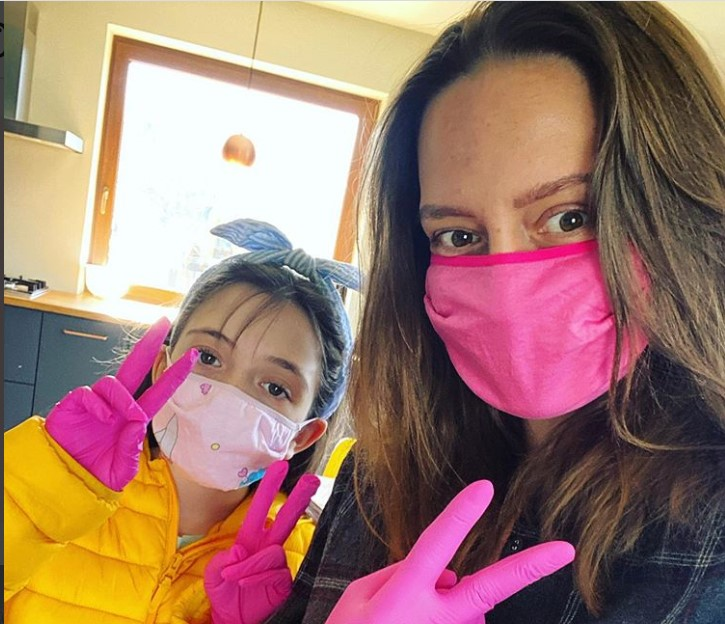face_with_mask: (385, 12, 721, 432), (150, 236, 361, 497)
